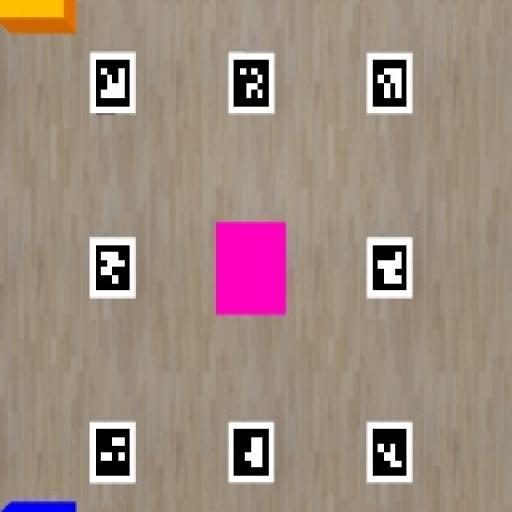car: (215, 222, 286, 315), (2, 500, 76, 511)
fire: (0, 0, 76, 34)
